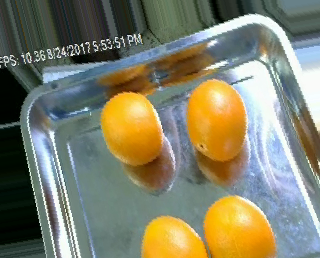Orange: (186, 77, 248, 162), (101, 90, 163, 167), (203, 194, 277, 258)
